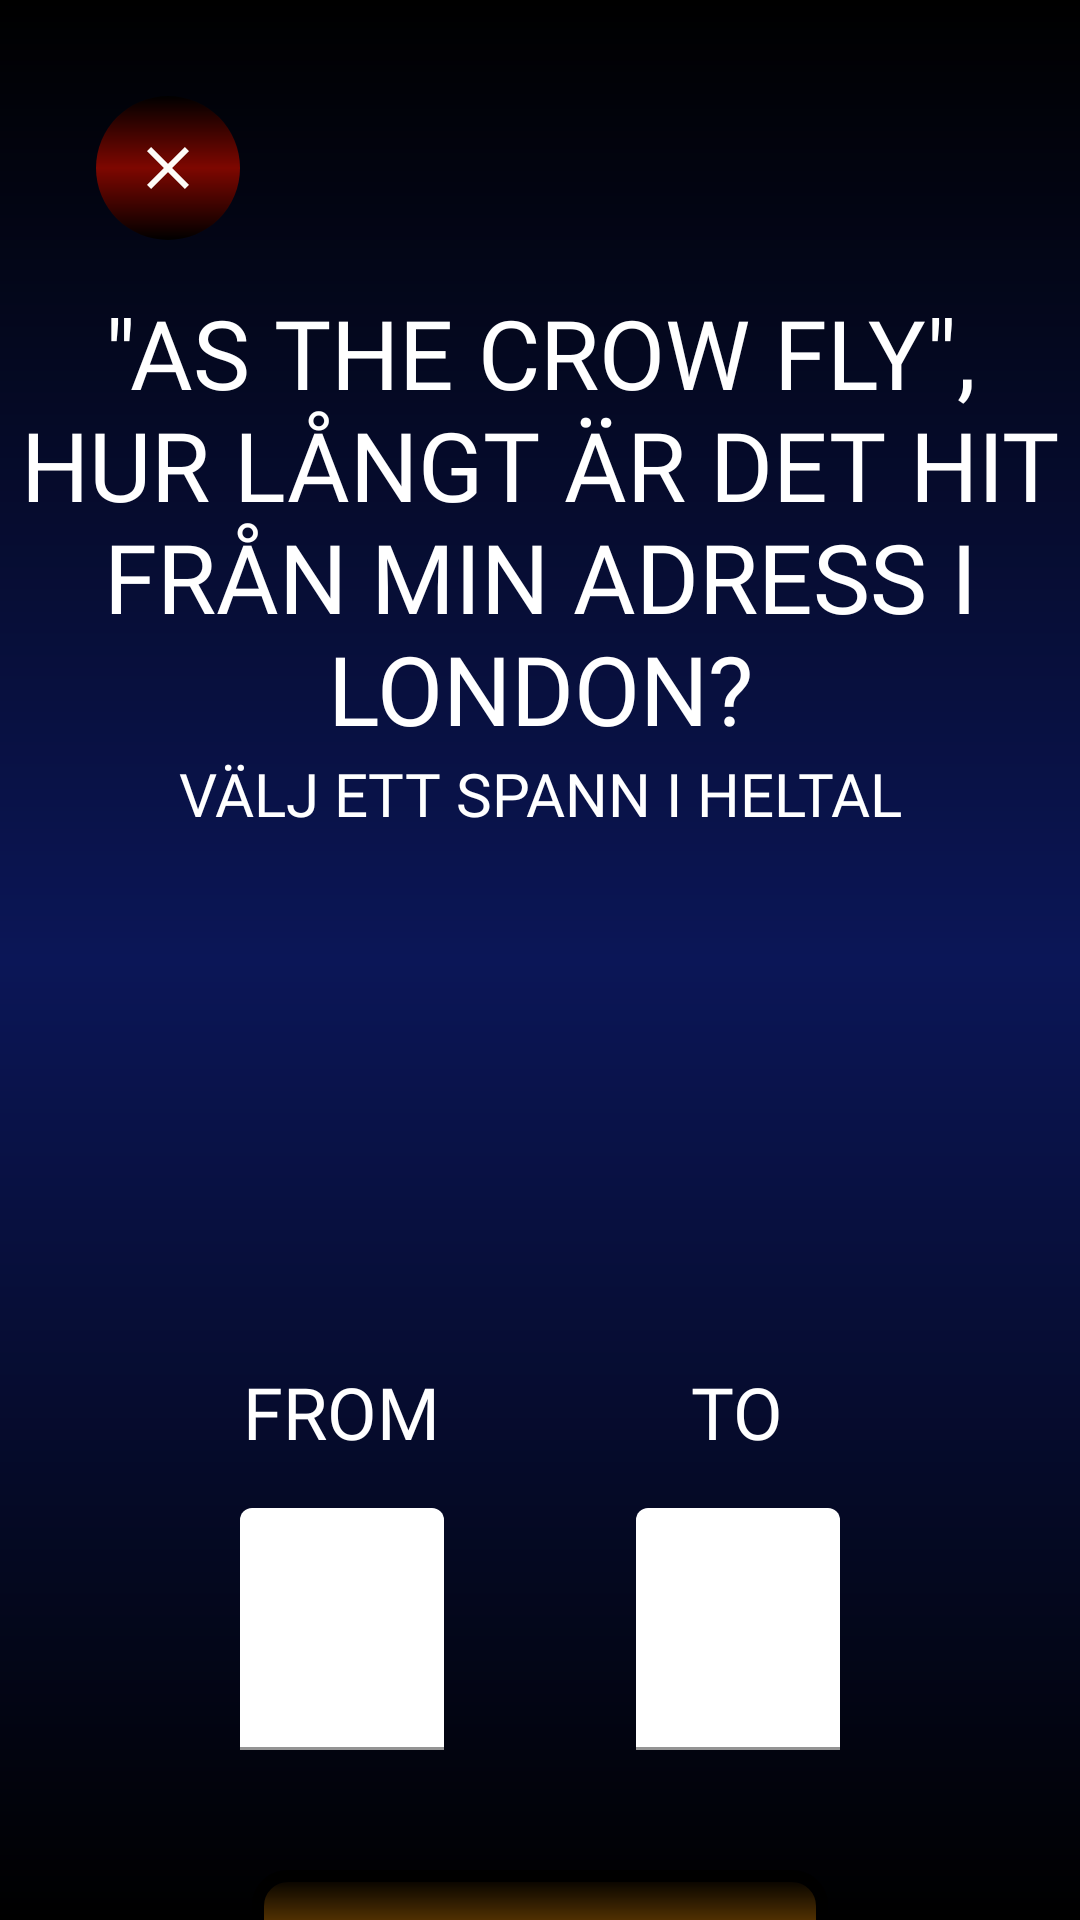

Icon bounding boxes for this 1080w x 1920h phone screenshot, format Rect(x1, y1, x2, y2):
close: Rect(96, 111, 240, 225)
